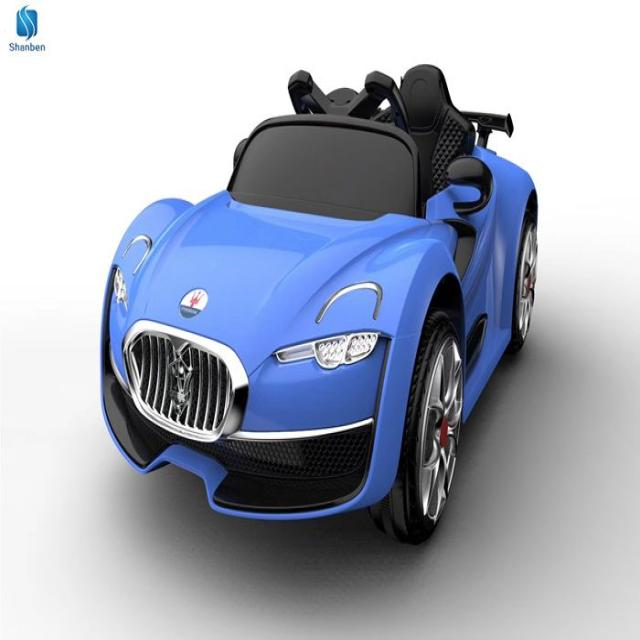Car: (99, 63, 538, 545)
